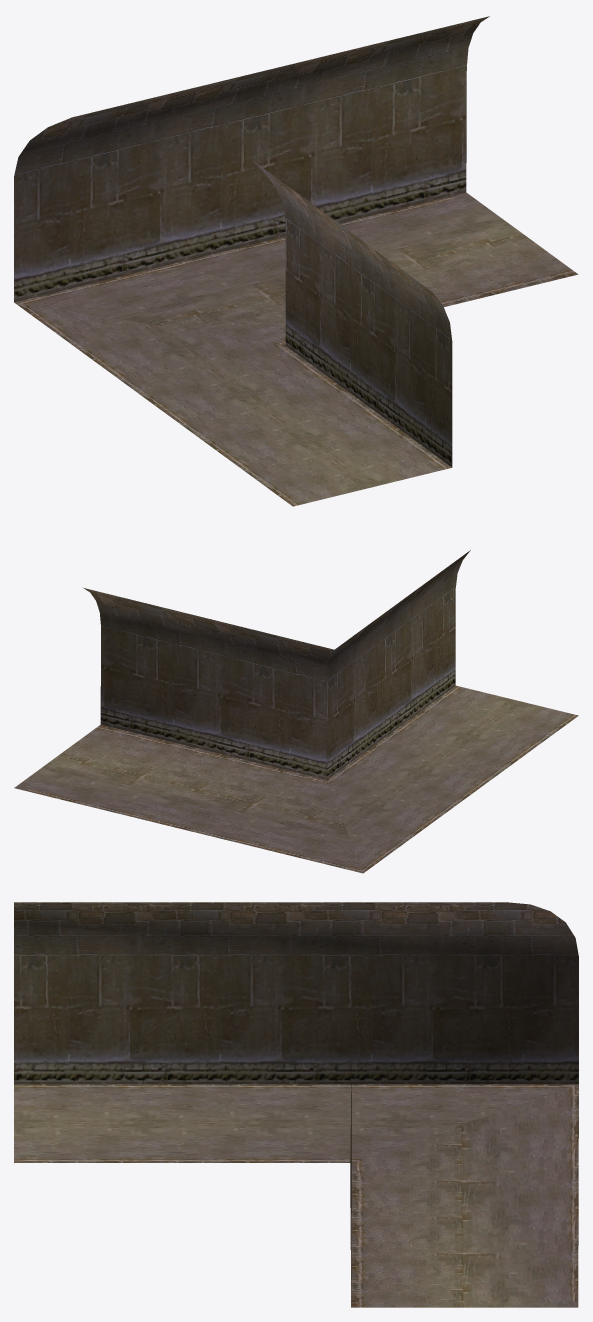
The model's file is M7Z4_Tunnel1.glb.
3 views of the same model, one above another, from view 1: azimuth 30°, elevation 25°; view 2: azimuth 150°, elevation 25°; view 3: azimuth 270°, elevation 25° (orthographic). The views are drawn at different scales.
Parts seen in each view (by area): view 1: M7Z4_TUNNEL1; view 2: M7Z4_TUNNEL1; view 3: M7Z4_TUNNEL1.
Boxes of the visible parts, box(x1,y1,x2,y2) form: M7Z4_TUNNEL1: box(14, 16, 578, 506); M7Z4_TUNNEL1: box(14, 550, 578, 873); M7Z4_TUNNEL1: box(14, 902, 578, 1307).
Size of the model in its own units: 6.88 by 3.11 by 7.35.
2 materials, 2 textured.
